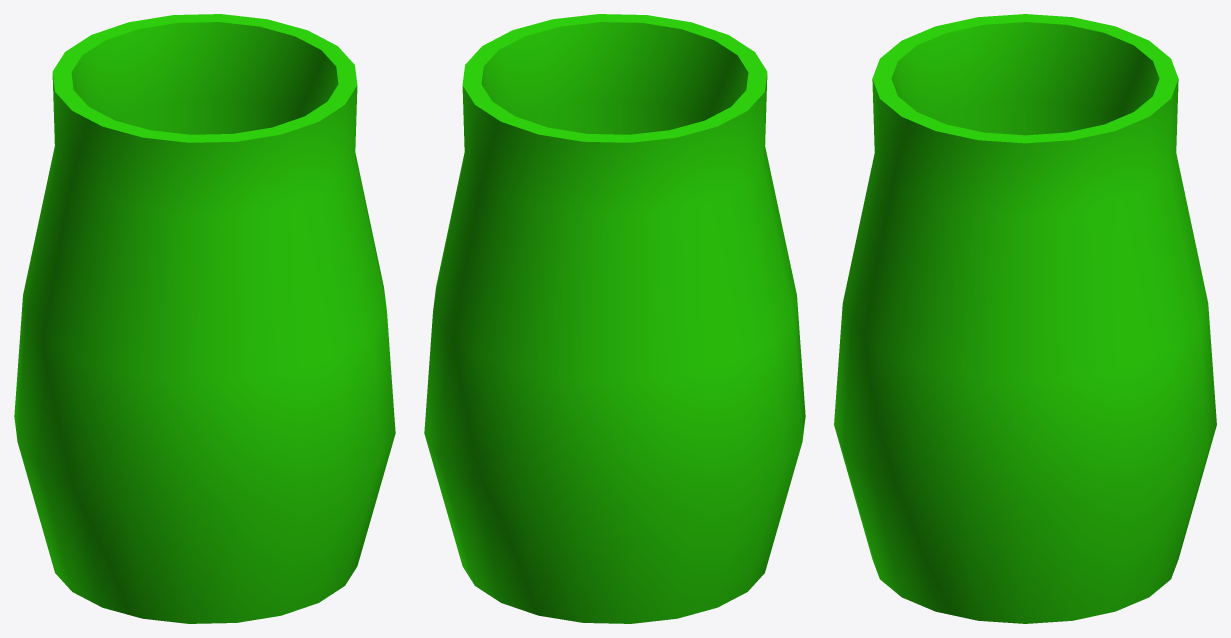
The model's file is Vase_02.fbx.
The picture shows the model from 3 angles, left to right: view 1: azimuth 30°, elevation 25°; view 2: azimuth 150°, elevation 25°; view 3: azimuth 270°, elevation 25°; orthographic projection.
Visible parts, largest first — view 1: Vase_02; view 2: Vase_02; view 3: Vase_02.
Part boxes in pixels (x1,y1,x2,y2): Vase_02: [14, 14, 395, 623]; Vase_02: [424, 14, 805, 623]; Vase_02: [834, 14, 1216, 623].
Bounding box in the file's own units: 15.69 × 21.73 × 15.69.
